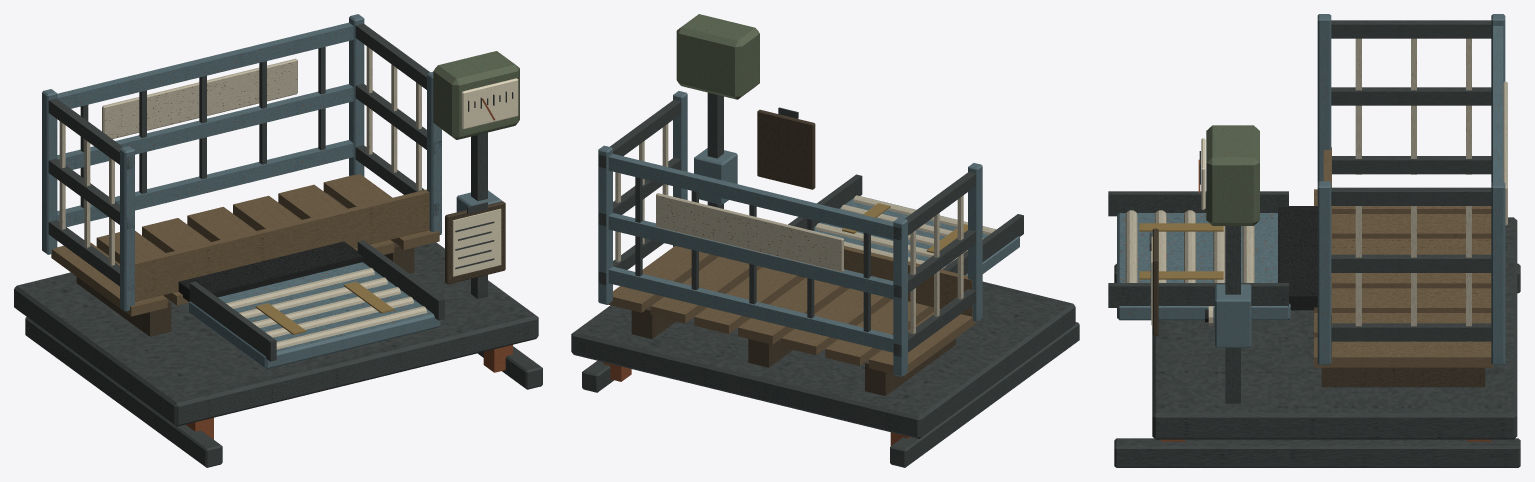
File: CompactExportStation.fbx
3 renders of one model, left to right at view 1: azimuth 30°, elevation 25°; view 2: azimuth 150°, elevation 25°; view 3: azimuth 270°, elevation 25°, orthographic. The views are drawn at different scales.
Visible parts, largest first — view 1: CompactExportStation; view 2: CompactExportStation; view 3: CompactExportStation.
Part boxes in pixels (x1,y1,x2,y2): CompactExportStation: (14, 14, 542, 467); CompactExportStation: (571, 14, 1079, 467); CompactExportStation: (1108, 14, 1520, 467).
Bounding box in the file's own units: 278 × 205 × 239.
Materials: 1 (1 with a texture image).
